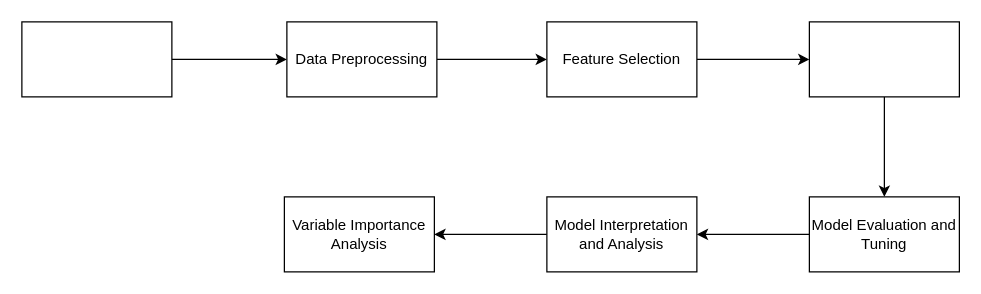
Image size: 981x294. Some labels were removed from this diagram. The shapes that lost their labels are listed below. From the top down, each one's centre as x and y in pixels, then its label:
(x=96, y=59): Data Collection
(x=883, y=59): Model Selection and Training
